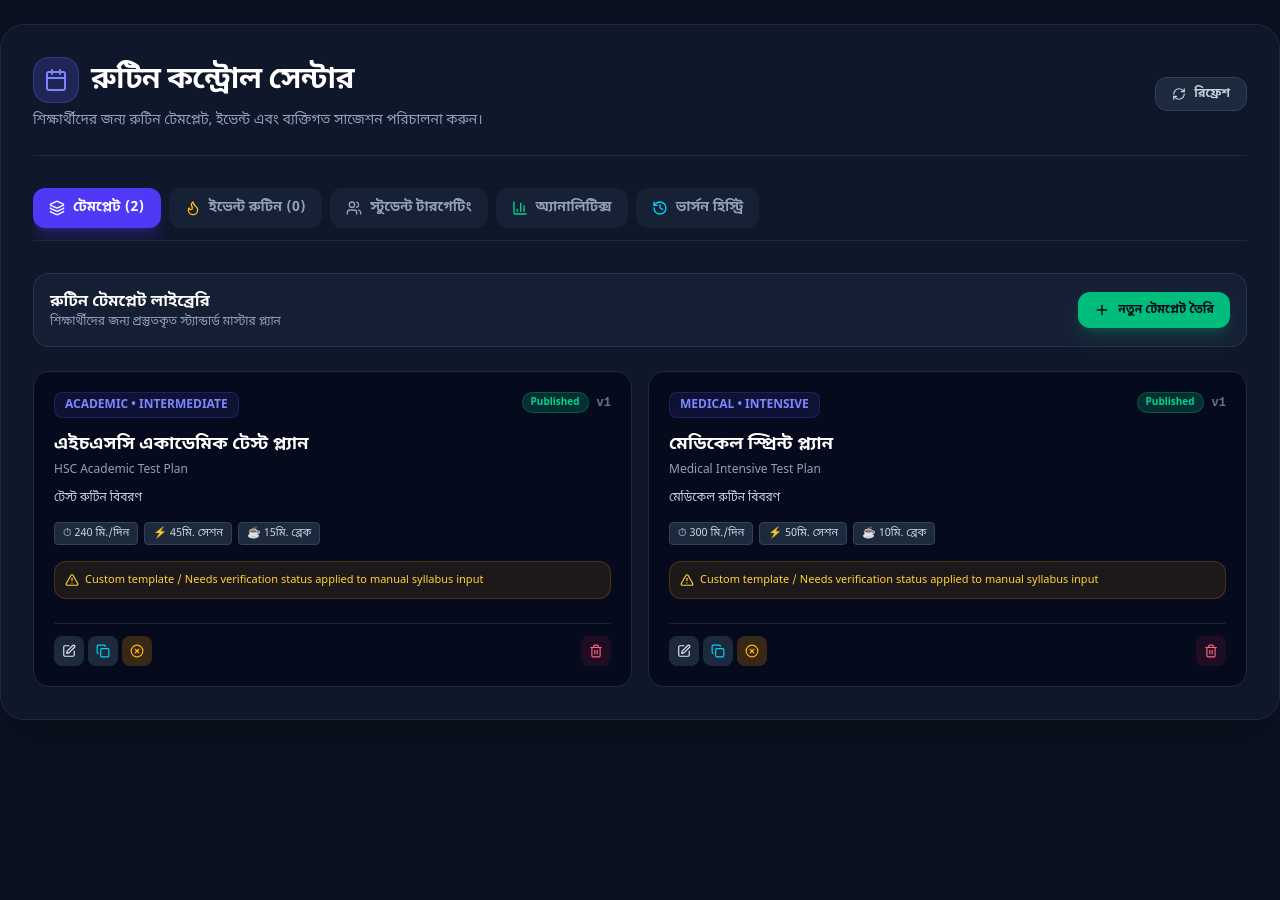
Test: Admin Routine Template Delete Flow › 1. Trash button is rendered with aria-label "টেমপ্লেট মুছুন" and clicking it opens the confirmation modal with template name and warning
This screenshot has width=1280, height=900.
Expected: the heading "এইচএসসি একাডেমিক টেস্ট প্ল্যান" is shown, [54,432,309,456]
// Click trash button on the first template
Click the 1st button named "টেমপ্লেট মুছুন".
click(596, 651)  # box [581,636,611,666]
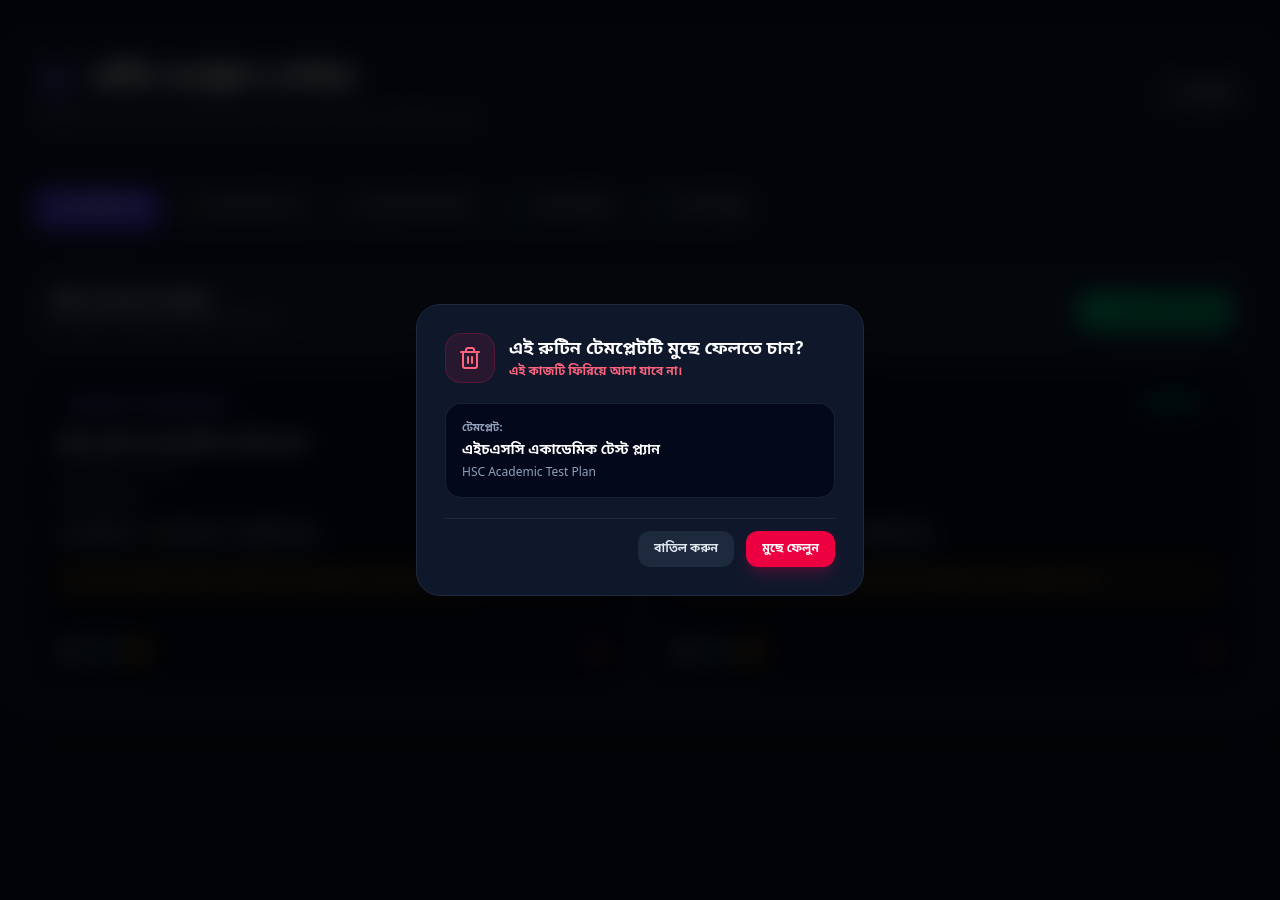
Expected: the heading "এই রুটিন টেমপ্লেটটি মুছে ফেলতে চান?" is shown, [509,337,804,362]
Expected: the text "এই কাজটি ফিরিয়ে আনা যাবে না।" is shown, [509,364,682,380]
Expected: the button "বাতিল করুন" is shown, [638,531,734,567]
